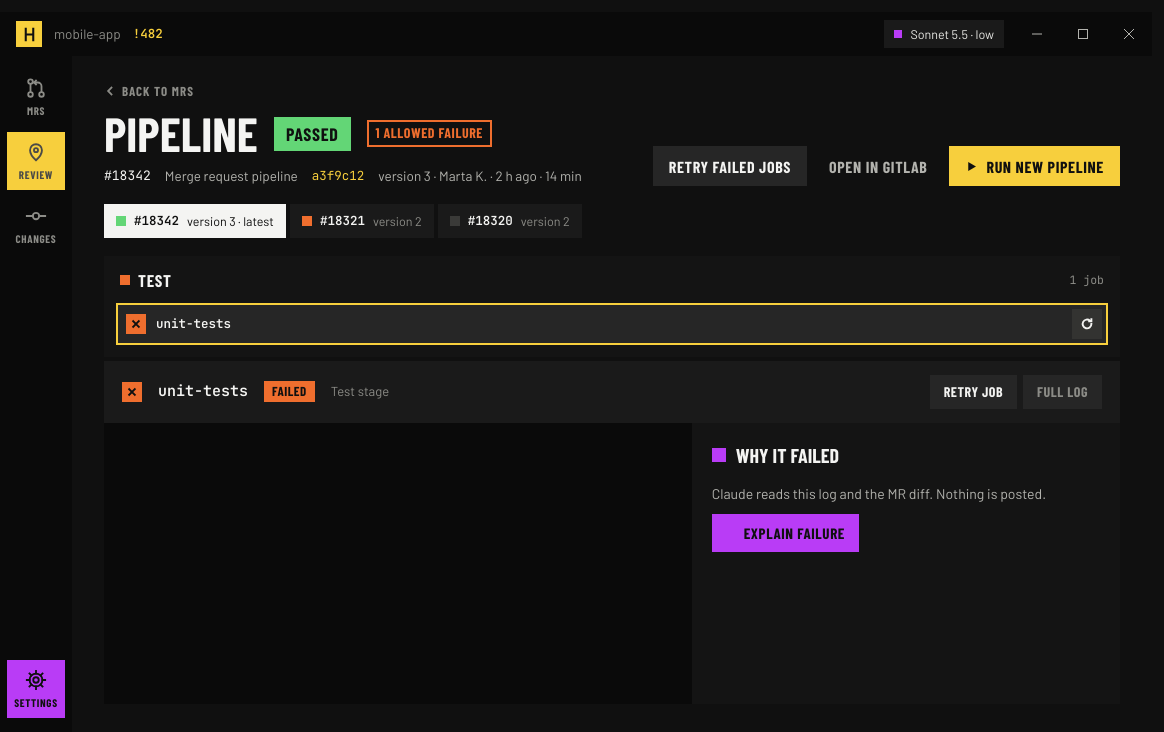
Test: S-08 refused row actions (F-20.2) › F-20.2 a refused Retry says the retry failed, then GitLab’s reason
Click the button named "Retry unit-tests": (1087, 324) [1072,309,1102,339]
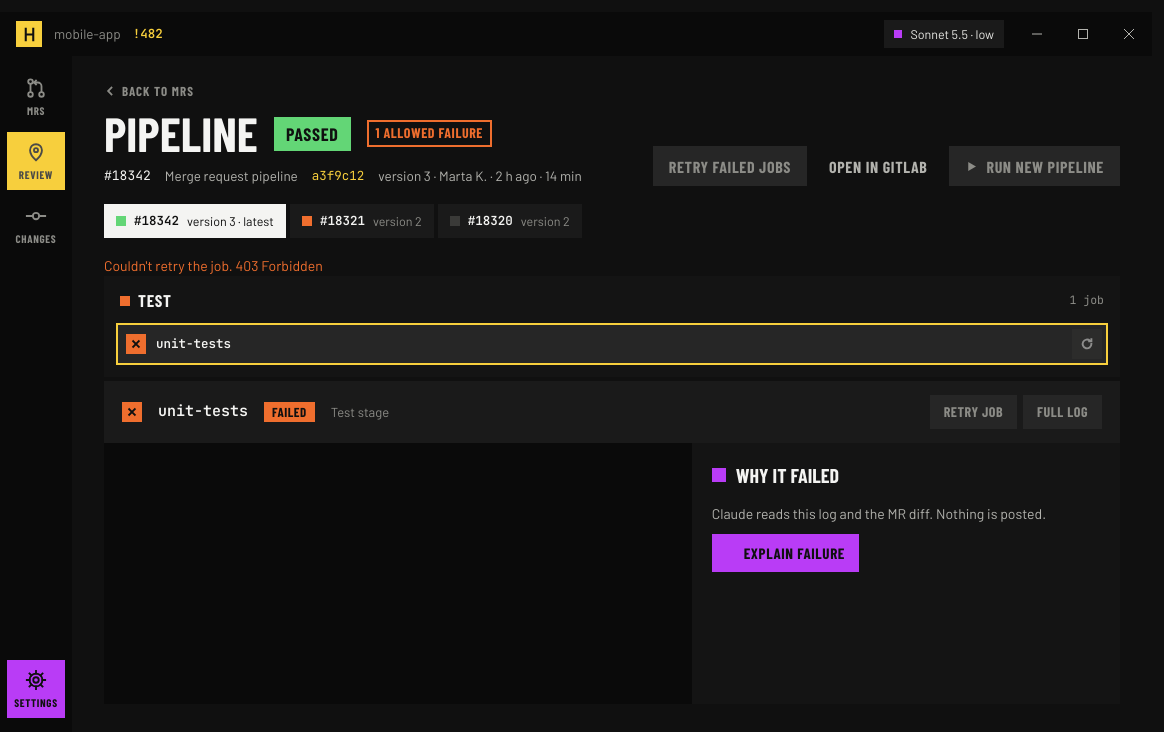
Check: the message reads "Couldn't retry the job. 403 Forbidden", box [104,257,323,274]
